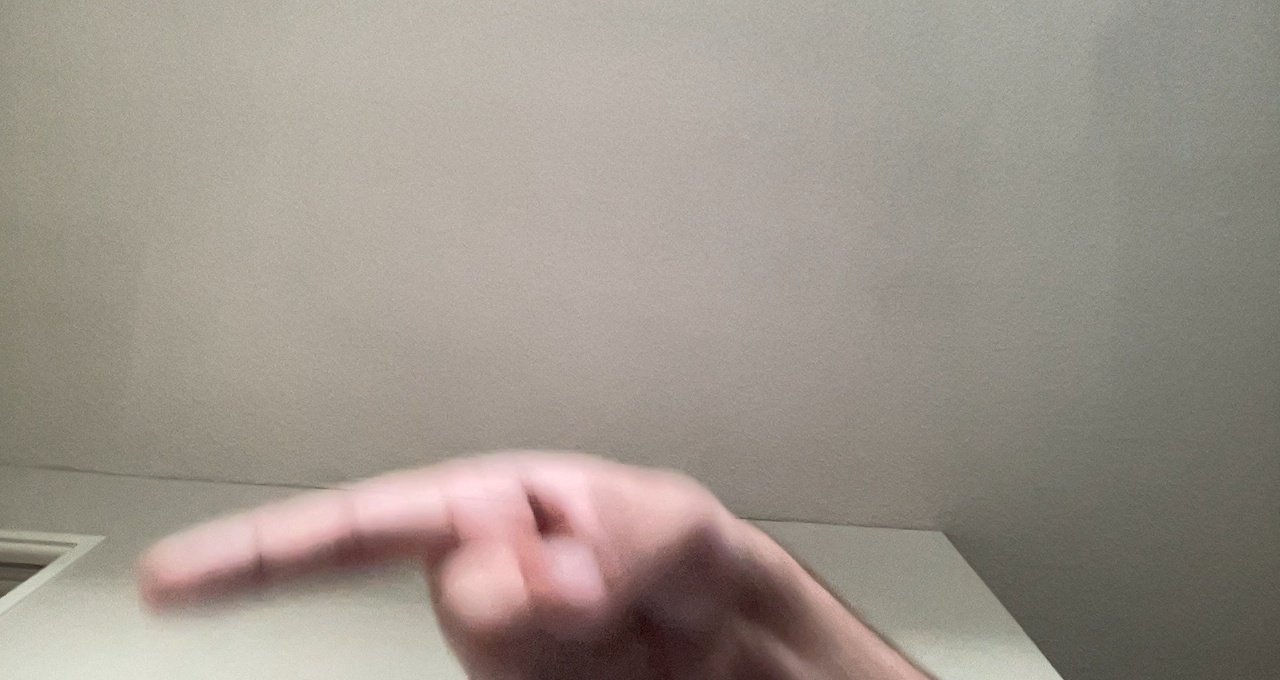fingerright: (129, 435, 821, 673)
